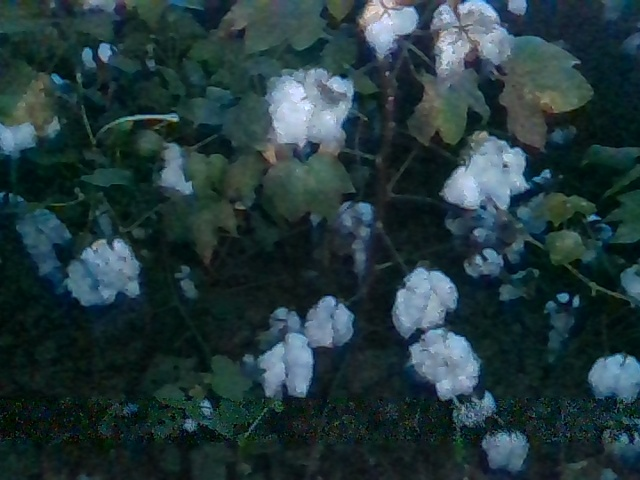cotton: (435, 127, 536, 223), (259, 57, 357, 150), (2, 183, 74, 303), (1, 60, 78, 161), (62, 235, 146, 312), (430, 2, 515, 78), (407, 328, 489, 399), (387, 263, 462, 336), (327, 197, 376, 285), (353, 2, 421, 60), (256, 338, 316, 399), (298, 290, 358, 347), (544, 289, 585, 372), (583, 348, 640, 404), (480, 425, 530, 480), (153, 140, 200, 194), (452, 388, 501, 432), (75, 33, 125, 74), (499, 268, 542, 302), (459, 249, 505, 278), (620, 260, 637, 309), (506, 1, 531, 17)
